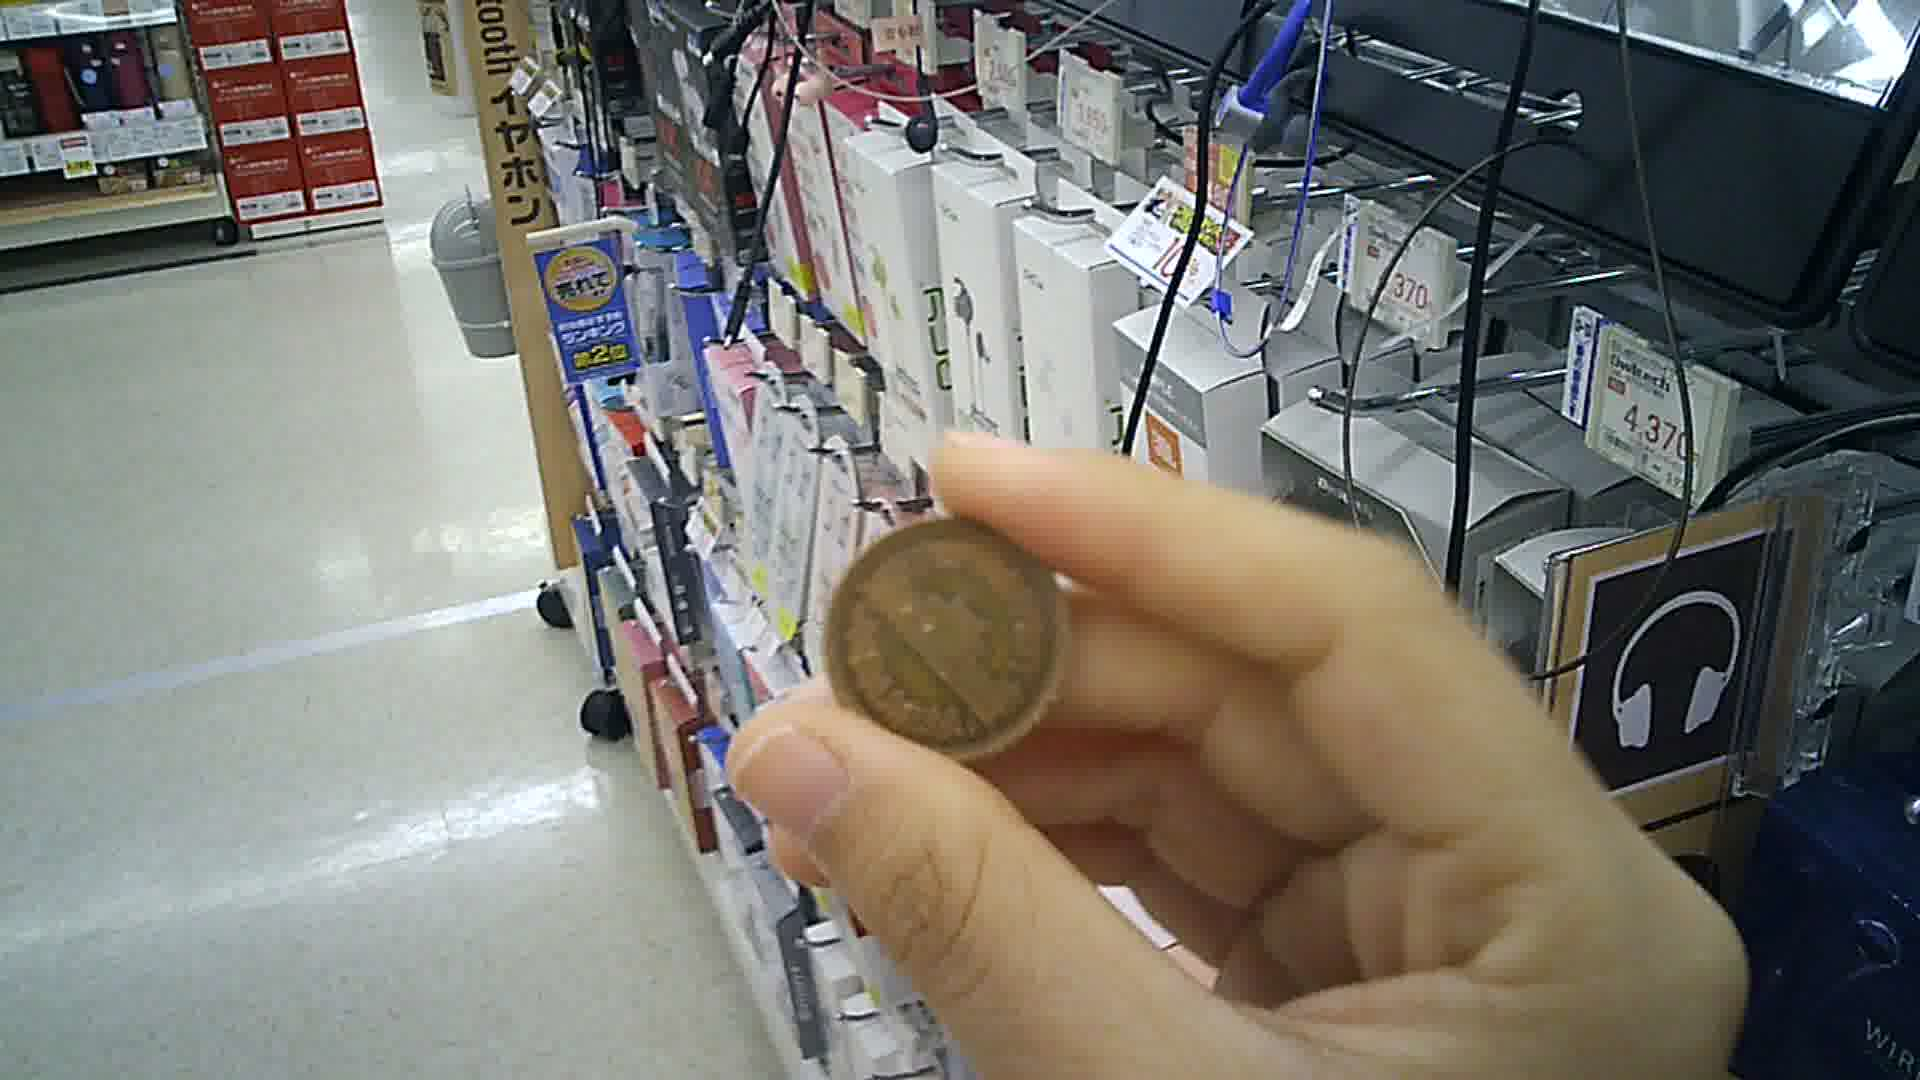10 Yen: (823, 508, 1079, 765)
